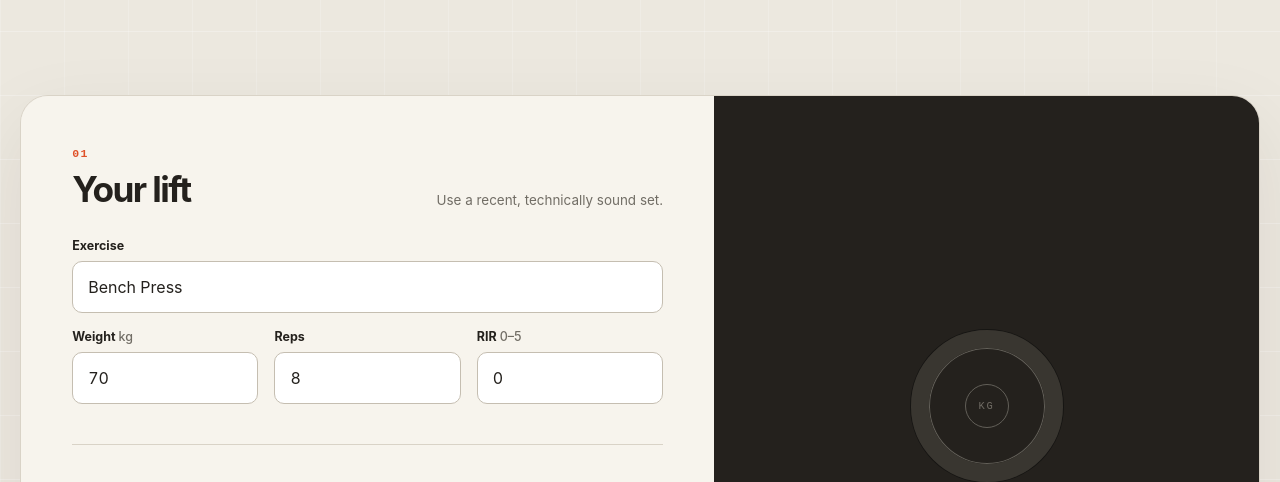
calculator UI › supports keyboard entry and custom exercises
The image size is (1280, 482).
(page scrolled)
Replace the text in the field labelled "Exercise" with "Cable Row". click: (368, 287)
box: [72,261,663,313]
(page scrolled)
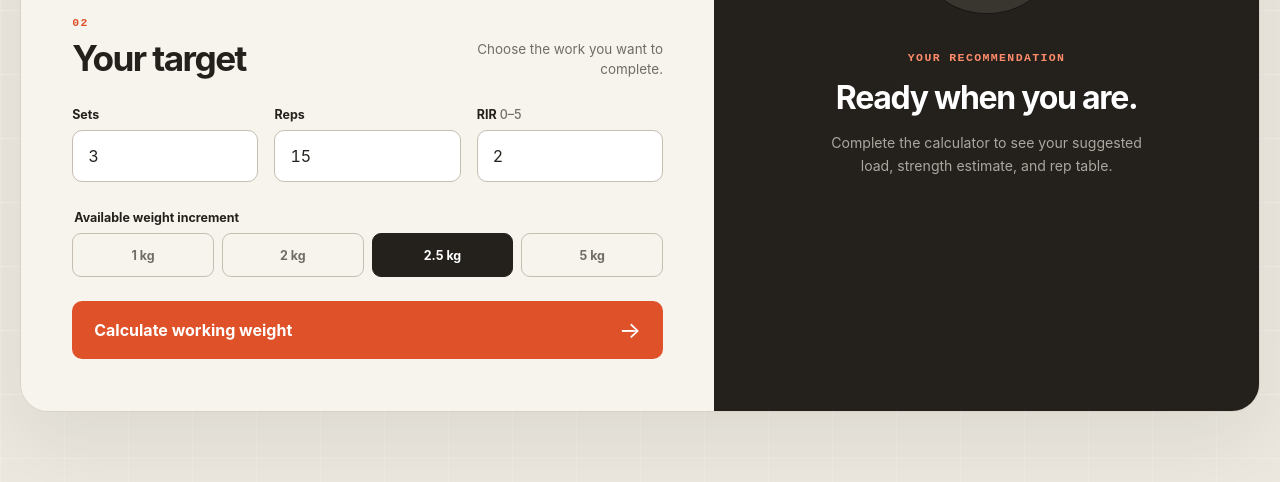
Click the button "Calculate working weight →". click: (193, 330)
box: [72,301,663,359]
(page scrolled)
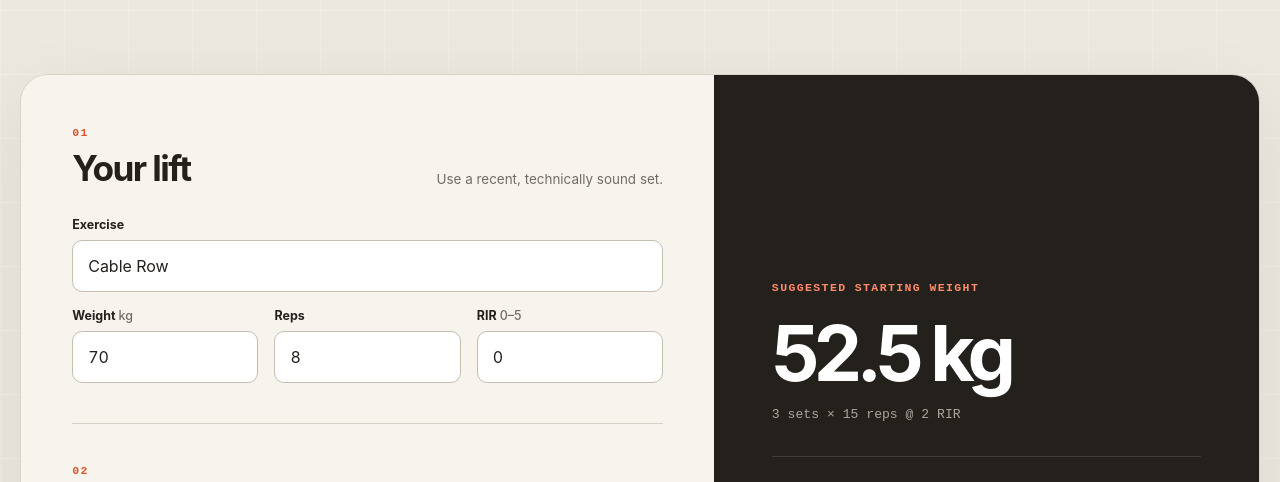
Expected: the text "Suggested starting weight" is shown, [772,282,979,294]
